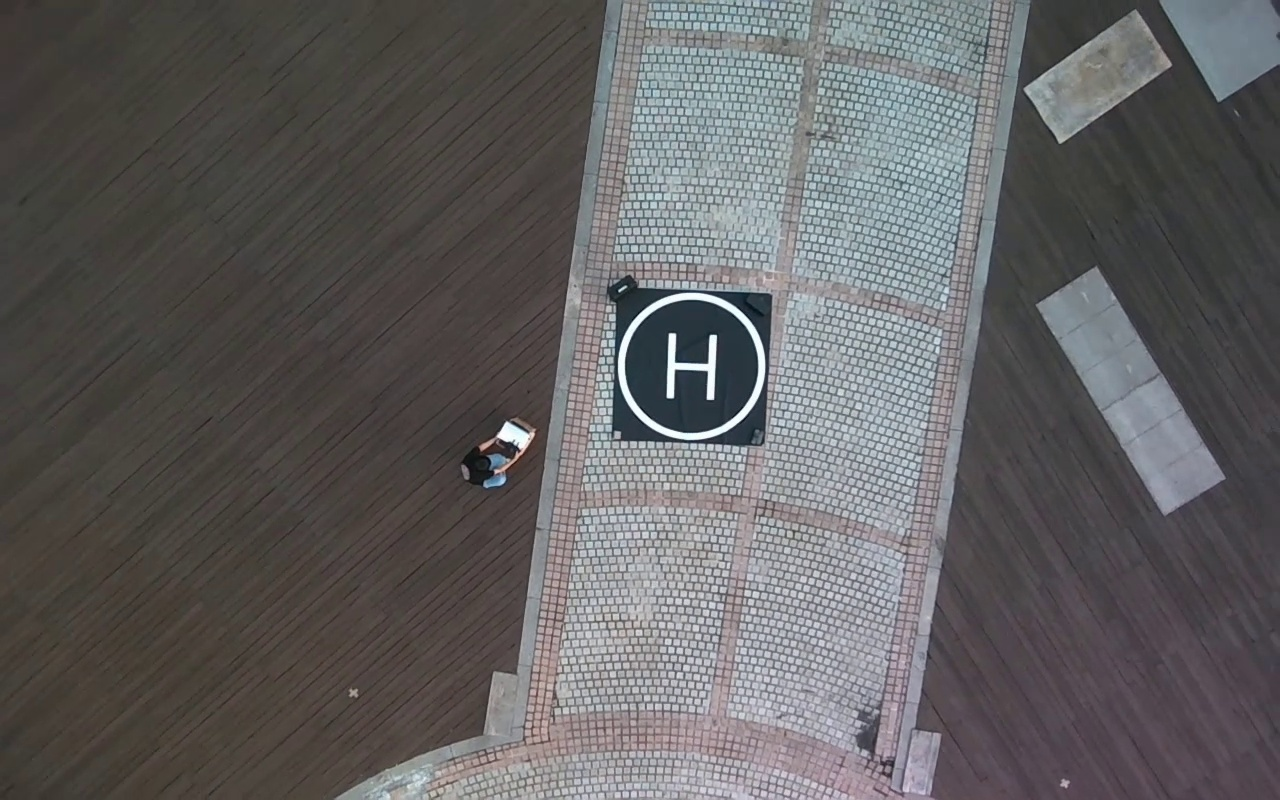H: (664, 331, 717, 402)
heliport: (615, 293, 767, 441)
